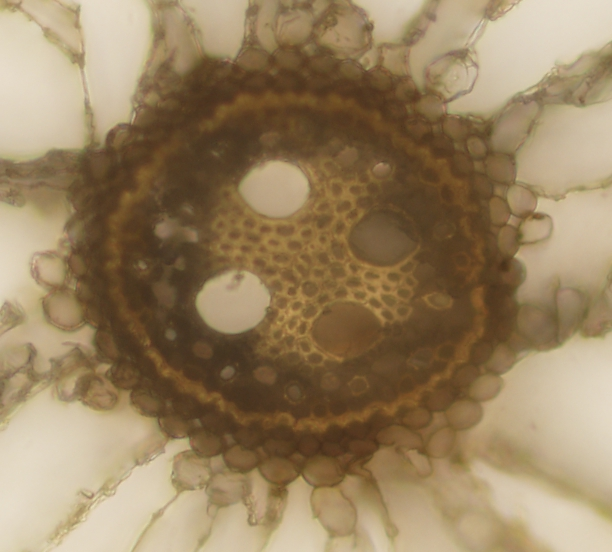lm: (194, 268, 271, 333), (310, 300, 385, 361), (347, 207, 421, 268), (238, 160, 312, 218)
